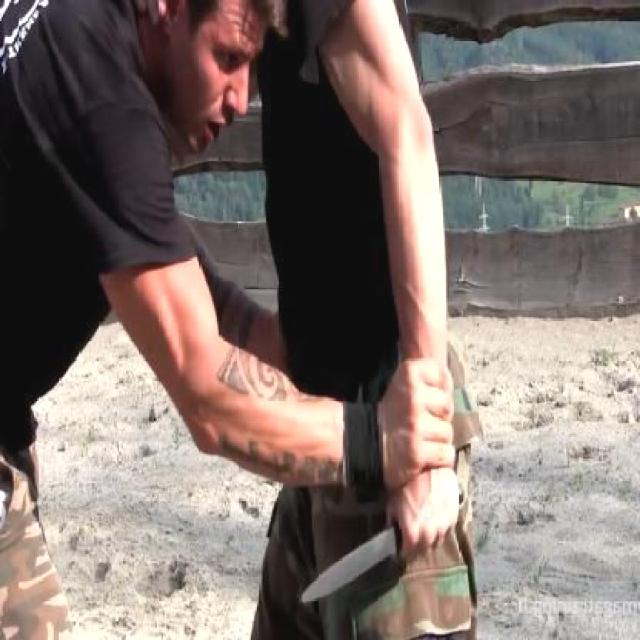knife: (299, 476, 466, 616)
